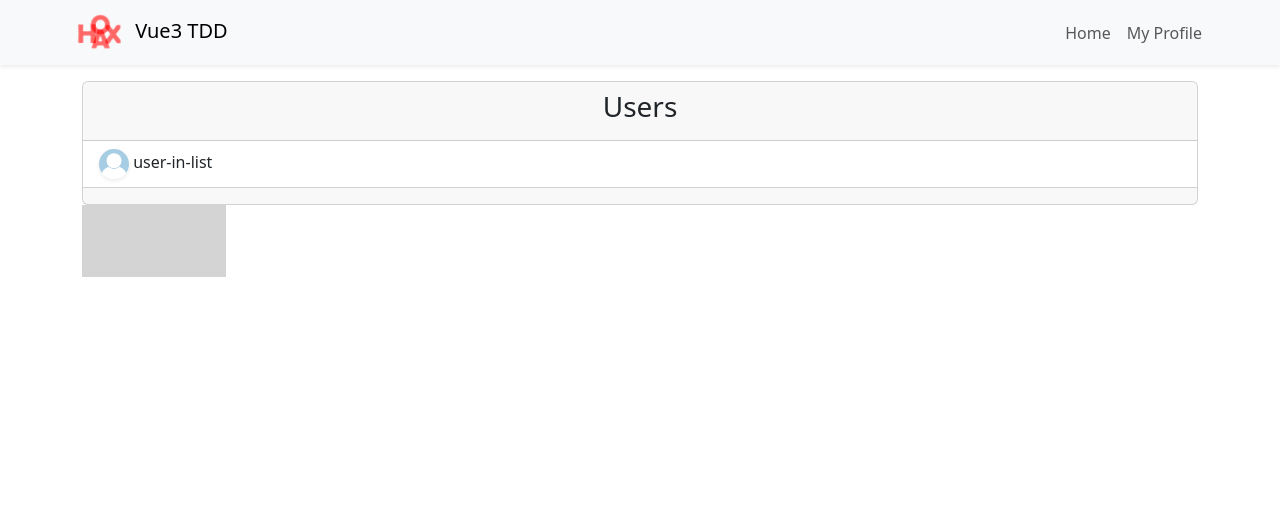
Scenario: Roteamento › Navegando para a página do usuário após clicar no usuário na lista de usuários
Click the list item "user-in-list" at (640, 164), box x1=83 y1=141 x2=1197 y2=187
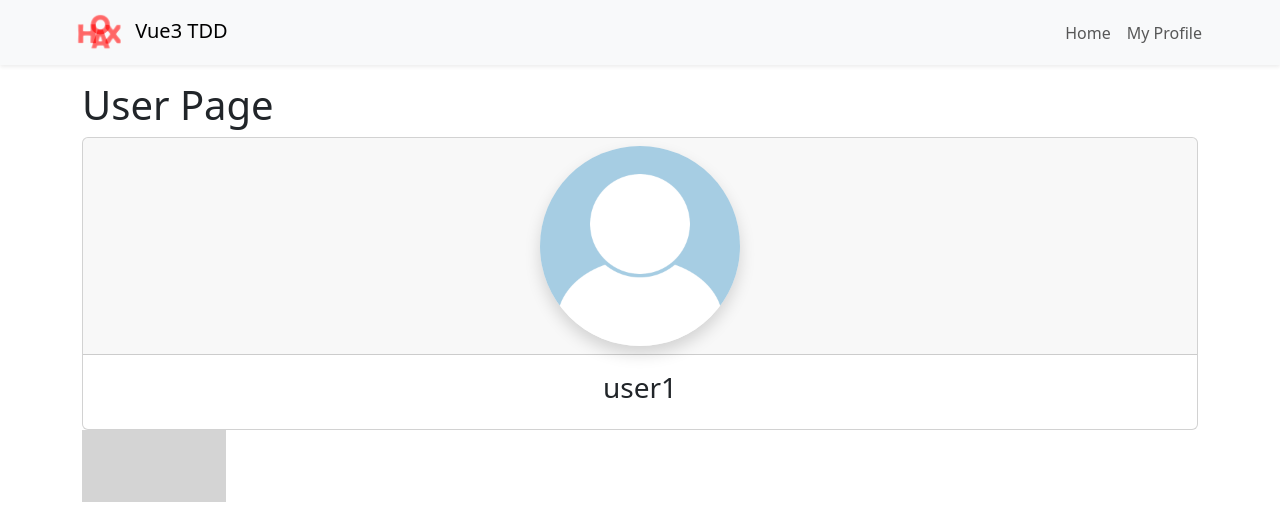
Now the element with test id "user-page" is shown, box x1=82 y1=81 x2=1198 y2=430
